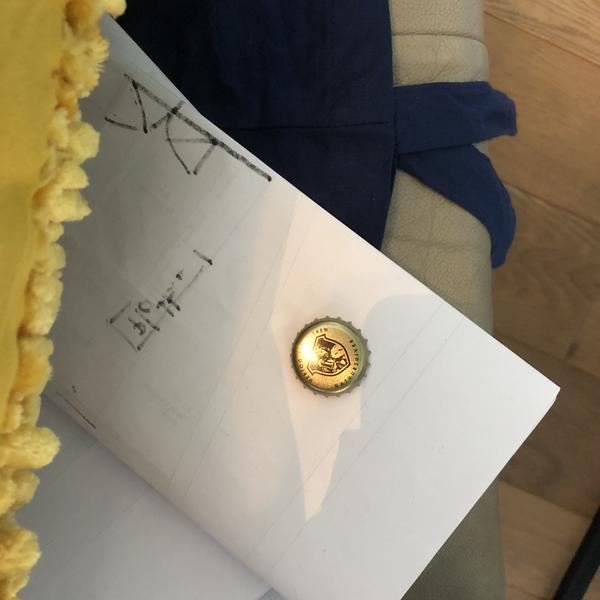hertogjan: (288, 315, 374, 402)
